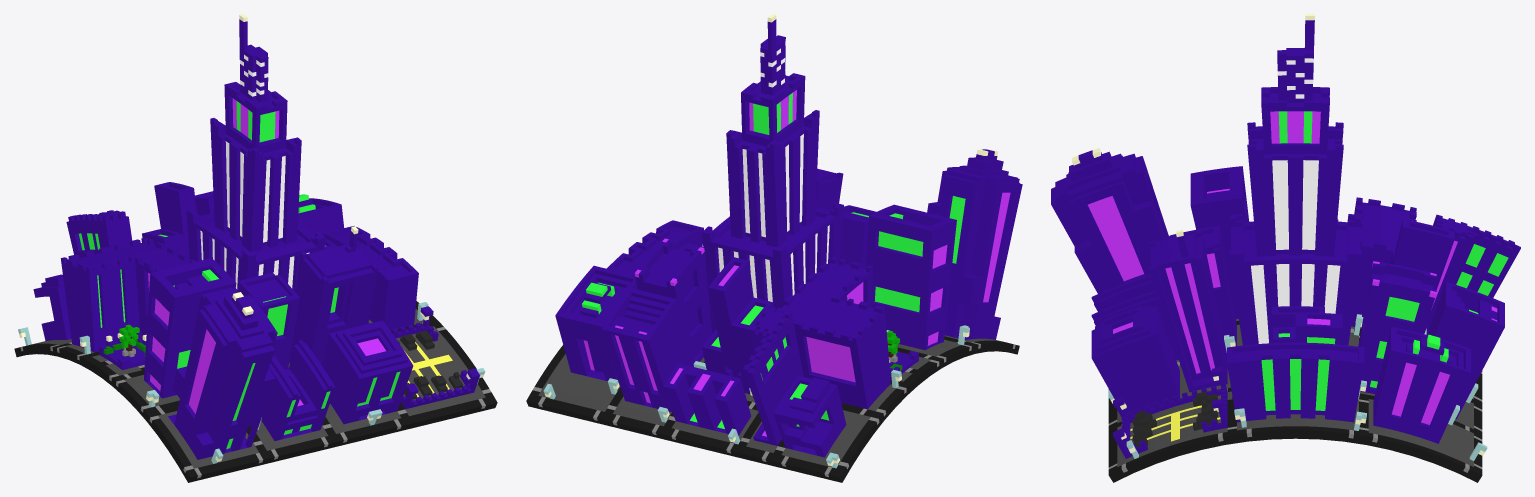
The model's file is city_at_night_v4_opt.glb.
The picture shows the model from 3 angles, left to right: view 1: azimuth 30°, elevation 25°; view 2: azimuth 150°, elevation 25°; view 3: azimuth 270°, elevation 25°; orthographic projection. The views are drawn at different scales.
Size of the model in its own units: 8 by 9.04 by 9.98.
1 material, 1 textured.
